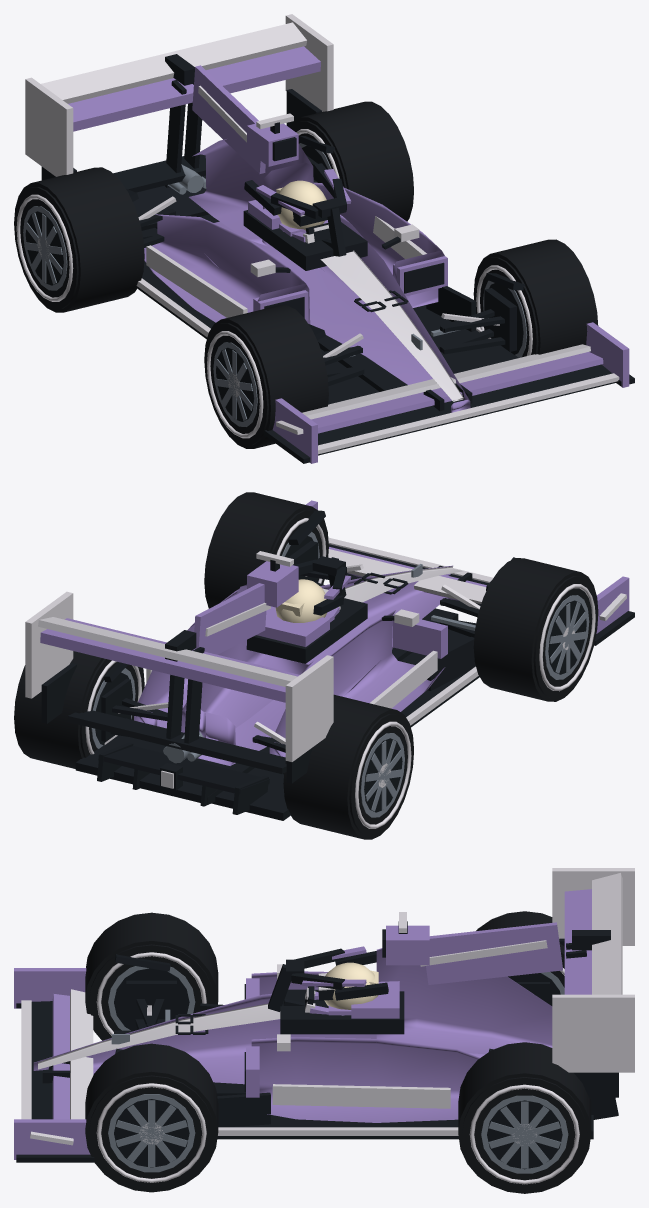
The model's file is orion-63.glb.
3 views of the same model, one above another, from view 1: azimuth 30°, elevation 25°; view 2: azimuth 150°, elevation 25°; view 3: azimuth 270°, elevation 25° (orthographic).
Parts seen in each view (by area): view 1: formula-63, wheel (×4); view 2: formula-63, wheel (×4); view 3: formula-63, wheel (×4).
Part boxes in pixels (box(x1,y1,x2,y2)): formula-63: box(25, 14, 634, 463); wheel (×4): box(14, 101, 598, 448); formula-63: box(25, 500, 634, 820); wheel (×4): box(14, 492, 598, 839); formula-63: box(14, 868, 634, 1162); wheel (×4): box(85, 911, 591, 1193).
Bounding box in the file's own units: 3.41 × 1.85 × 5.41.
